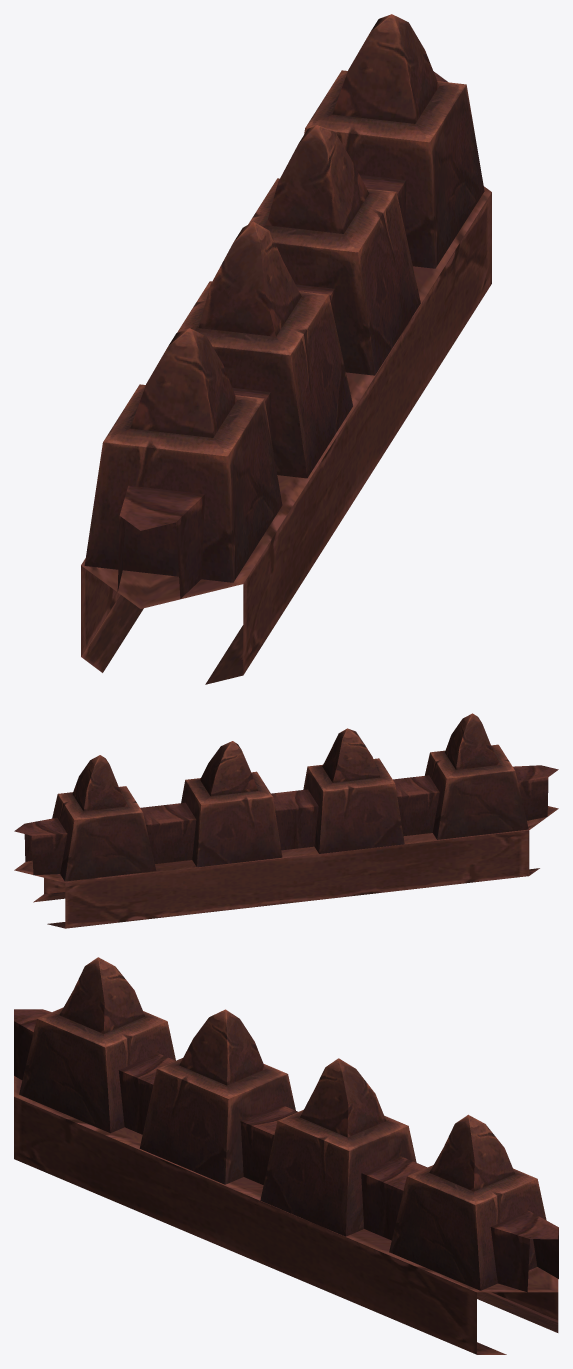
The model's file is lava_railing_diagonal_01.fbx.
3 renders of one model, top to bottom at view 1: azimuth 30°, elevation 25°; view 2: azimuth 150°, elevation 25°; view 3: azimuth 270°, elevation 25°, orthographic. The views are drawn at different scales.
Visible parts, largest first — view 1: lava_tileset/lava_wall01; view 2: lava_tileset/lava_wall01; view 3: lava_tileset/lava_wall01.
Part boxes in pixels (<box>): lava_tileset/lava_wall01: <box>81,14,491,684</box>; lava_tileset/lava_wall01: <box>14,713,558,928</box>; lava_tileset/lava_wall01: <box>14,957,558,1354</box>.
Size of the model in its own units: 4 by 1.66 by 4.
